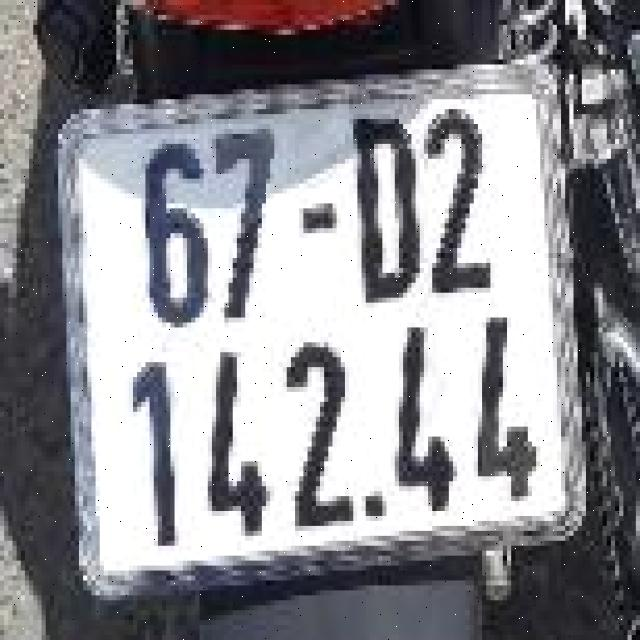1: (127, 355, 189, 553)
2: (280, 340, 360, 528), (428, 99, 503, 298)
4: (197, 345, 268, 538), (476, 310, 542, 509), (397, 317, 459, 516)
6: (137, 136, 208, 325)
7: (208, 124, 282, 323)
D: (347, 107, 426, 305)
